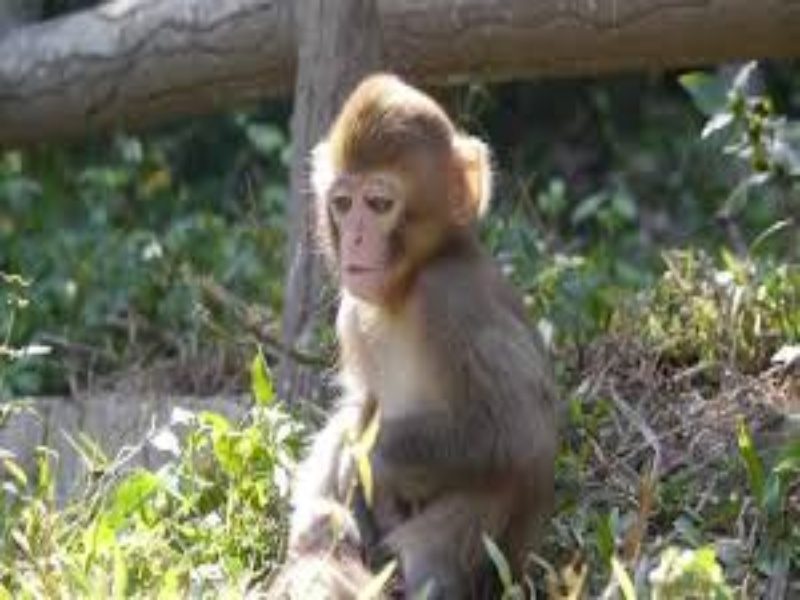monkey: (259, 66, 573, 594)
